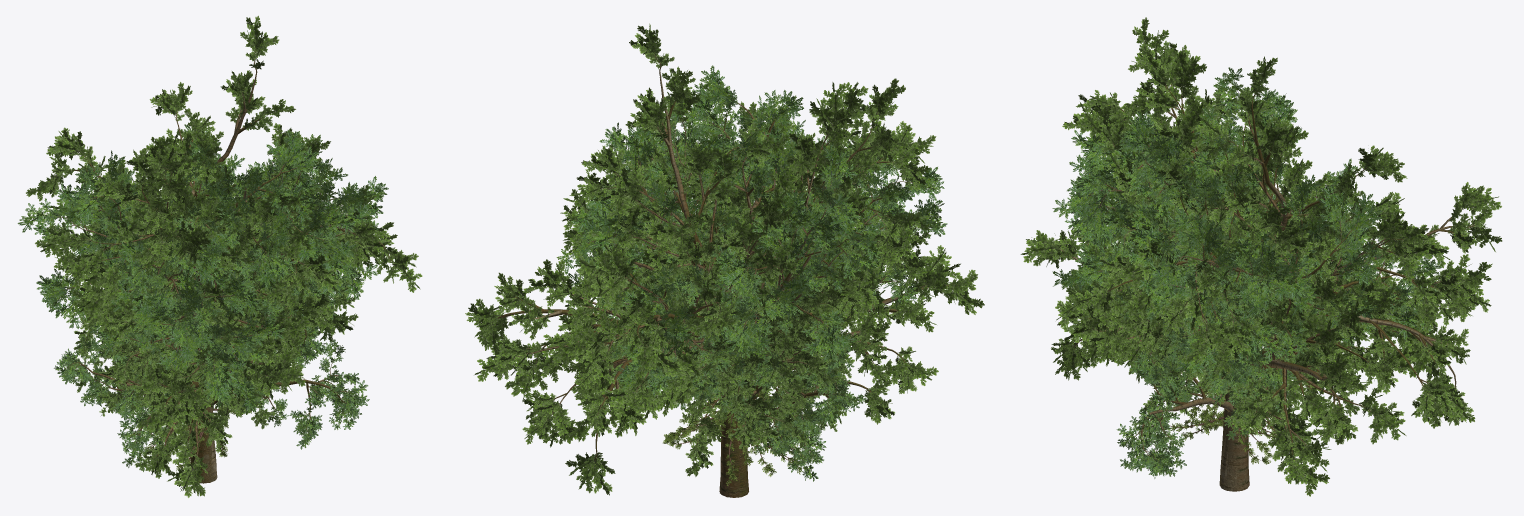
The model's file is park-trees.glb.
3 renders of one model, left to right at view 1: azimuth 30°, elevation 25°; view 2: azimuth 150°, elevation 25°; view 3: azimuth 270°, elevation 25°, orthographic. The views are drawn at different scales.
Visible parts, largest first — view 1: leaves (×6), branches (×3); view 2: leaves (×6), branches (×3); view 3: leaves (×6), branches (×3).
Boxes of the visible parts, bbox=[...] form: leaves (×6): bbox=[17, 15, 422, 497]; branches (×3): bbox=[55, 49, 393, 483]; leaves (×6): bbox=[465, 23, 984, 495]; branches (×3): bbox=[490, 54, 948, 497]; leaves (×6): bbox=[1020, 17, 1502, 496]; branches (×3): bbox=[1059, 66, 1474, 491].
Size of the model in its own units: 95.21 by 104 by 98.91.
Materials: 5 (5 with a texture image).
